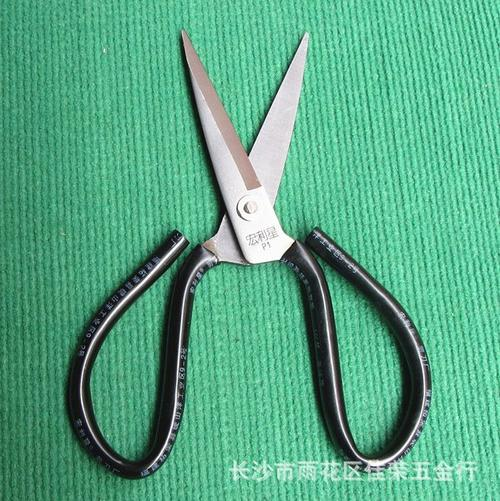scissor: (64, 25, 435, 479)
